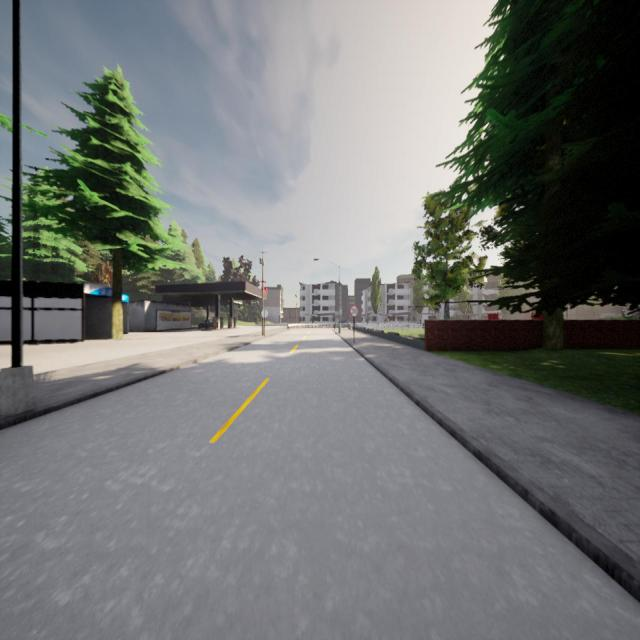Traffic_Signs: (350, 305, 360, 317), (260, 309, 268, 318)
Vehicle: (198, 319, 212, 329)
traffic_light: (263, 286, 266, 292)
